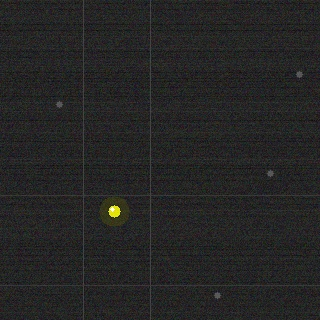yellow_warning: (106, 203, 122, 219)
